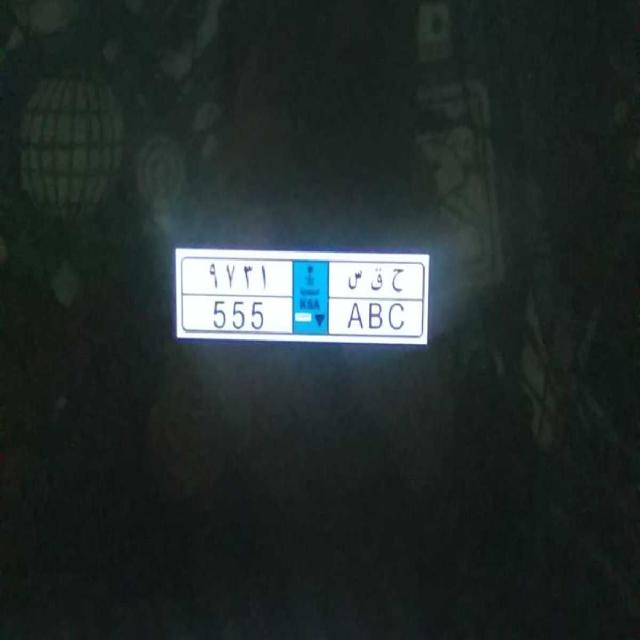license_plate: (197, 293, 415, 342)
